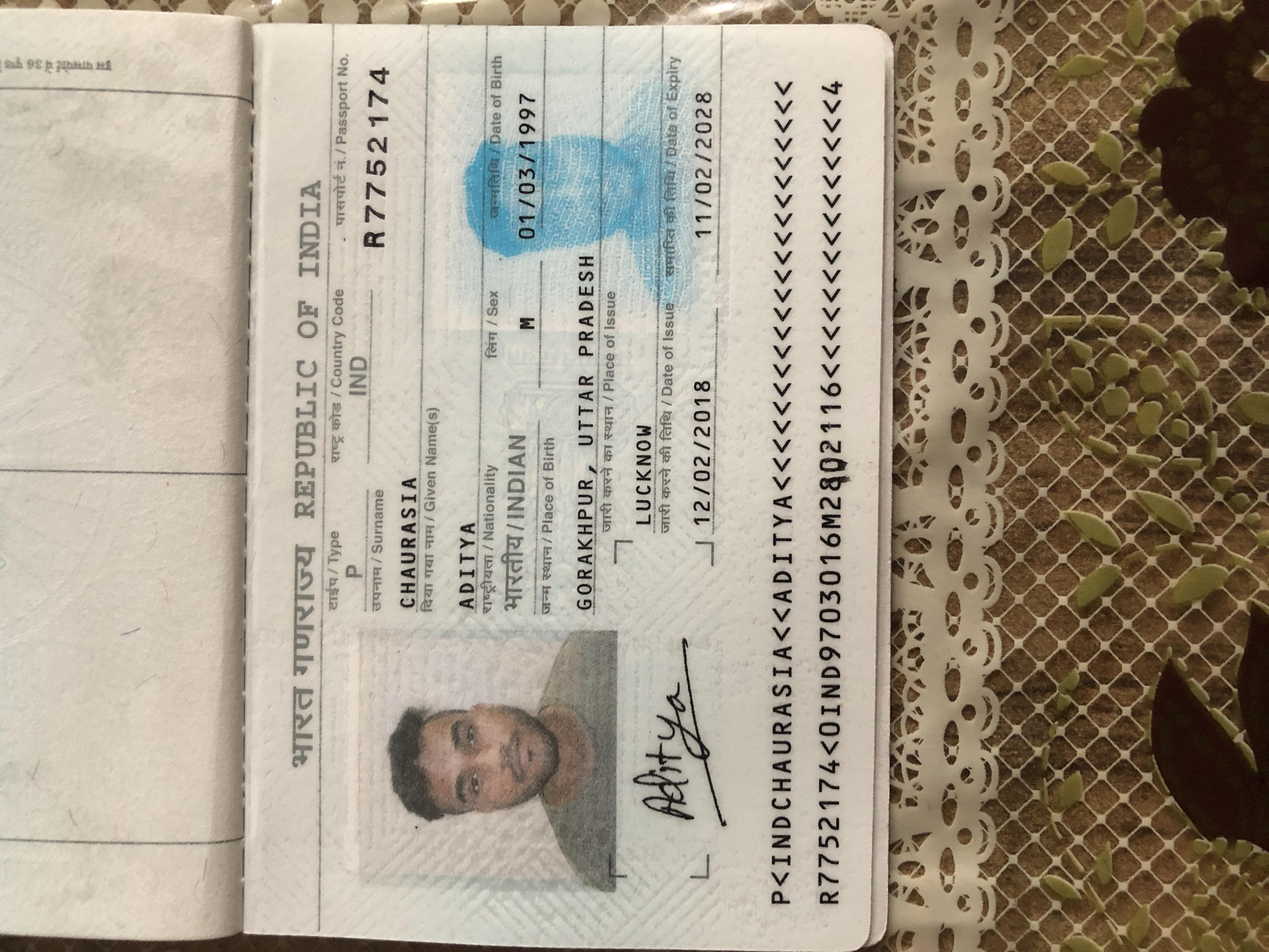DOB: (944, 383, 1152, 406)
Surname: (453, 293, 653, 315)
country_code: (728, 255, 800, 279)
date_of_expiry: (949, 516, 1168, 543)
date_of_issue: (555, 511, 767, 539)
details: (45, 570, 1181, 637)
name: (455, 341, 589, 360)
nationality: (450, 374, 698, 399)
passport_no: (927, 267, 1195, 301)
photo: (98, 272, 429, 464)
place_of_birth: (443, 425, 941, 445)
place_of_issue: (560, 473, 706, 494)
sex: (820, 383, 853, 406)
sign: (159, 472, 404, 529)
type: (490, 255, 531, 276)
